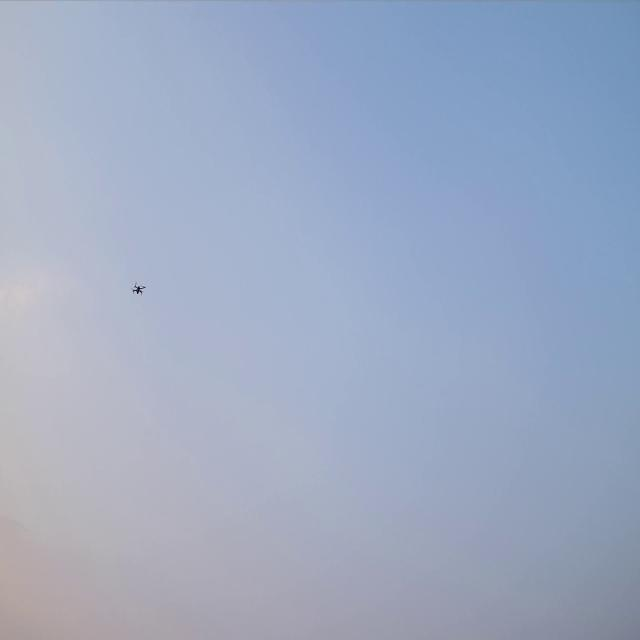UAV: (130, 280, 146, 296)
